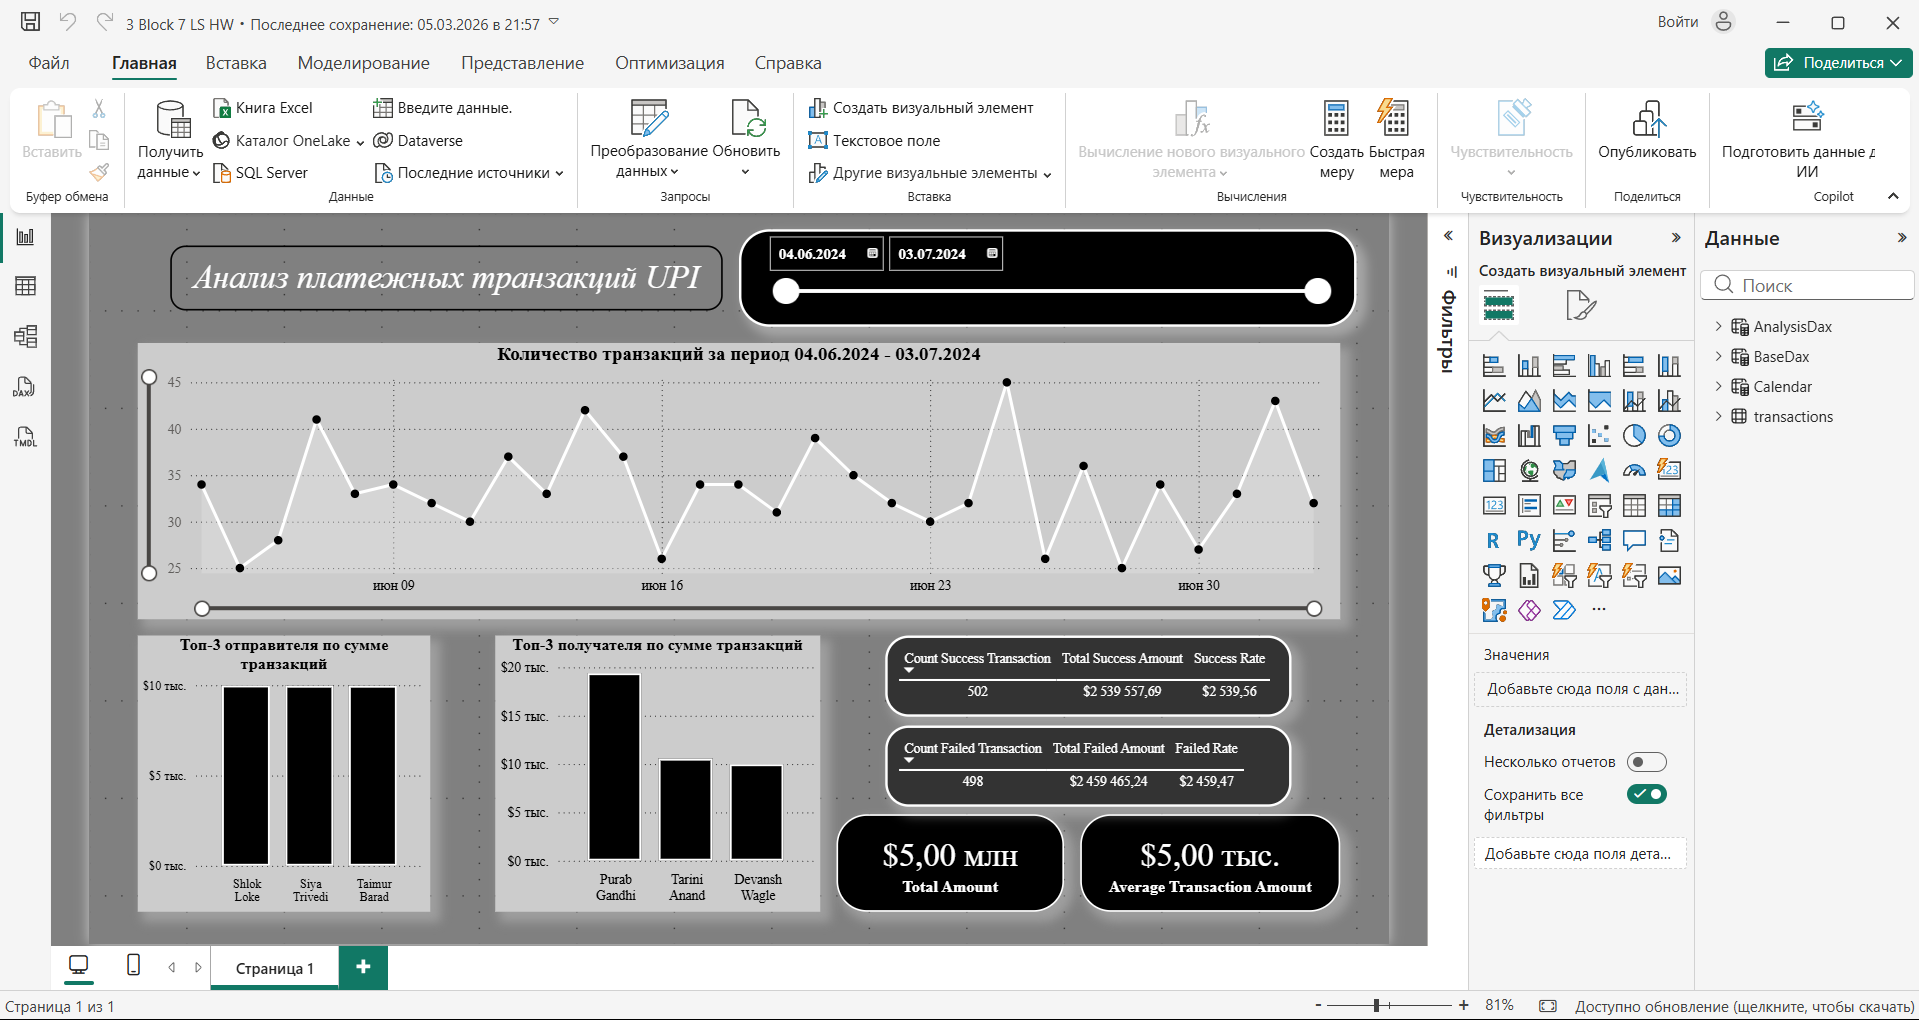

What the dashboard file says about the page in this screenshot:
{"tool":"powerbi","page":{"name":"Страница 1","canvas":[1280,720],"ordinal":0},"visuals":[{"type":"textbox","box":[80,32,544,64],"z":0},{"type":"lineChart","title":"Количество транзакций за период 04.06.2024 - 03.07.2024","fields":{"Y":["BaseDax.Total Transactions"],"Category":["Calendar.Date"]},"box":[48,128,1184,272],"z":1000},{"type":"clusteredColumnChart","title":"Топ-3 отправителя по сумме транзакций","fields":{"Category":["transactions.Sender Name"],"Y":["BaseDax.Total Amount"]},"box":[48,416,288,272],"z":2000},{"type":"clusteredColumnChart","title":"Топ-3 получателя по сумме транзакций","fields":{"Y":["BaseDax.Total Amount"],"Category":["transactions.Receiver Name"]},"box":[400,416,320,272],"z":3000},{"type":"slicer","fields":{"Values":["Calendar.Date"]},"box":[640,16,608,96],"z":4000},{"type":"card","fields":{"Values":["BaseDax.Total Amount"]},"box":[736,592,224,96],"z":5000},{"type":"card","fields":{"Values":["BaseDax.Average Transaction Amount"]},"box":[976,592,256,96],"z":6000},{"type":"tableEx","fields":{"Values":["AnalysisDax.Count Success Transaction","AnalysisDax.Total Success Amount","AnalysisDax.Success Rate"]},"box":[784,416,400,80],"z":7000},{"type":"tableEx","fields":{"Values":["AnalysisDax.Count Failed Transaction","AnalysisDax.Total Failed Amount","AnalysisDax.Failed Rate"]},"box":[784,504,400,80],"z":8000}]}

Visuals, with their boxes on the page's 1280x720 design canvas (x1, y1, x2, y2). These are canvas units, not pixel positions in the 1919x1020 screenshot, which may show the page scaled, cropped or inside an application window:
textbox: (left=80, top=32, right=624, bottom=96)
"Количество транзакций за период 04.06.2024 - 03.07.2024" lineChart: (left=48, top=128, right=1232, bottom=400)
"Топ-3 отправителя по сумме транзакций" clusteredColumnChart: (left=48, top=416, right=336, bottom=688)
"Топ-3 получателя по сумме транзакций" clusteredColumnChart: (left=400, top=416, right=720, bottom=688)
slicer - Calendar.Date: (left=640, top=16, right=1248, bottom=112)
card - BaseDax.Total Amount: (left=736, top=592, right=960, bottom=688)
card - BaseDax.Average Transaction Amount: (left=976, top=592, right=1232, bottom=688)
tableEx - AnalysisDax.Count Success Transaction x AnalysisDax.Total Success Amount: (left=784, top=416, right=1184, bottom=496)
tableEx - AnalysisDax.Count Failed Transaction x AnalysisDax.Total Failed Amount: (left=784, top=504, right=1184, bottom=584)
